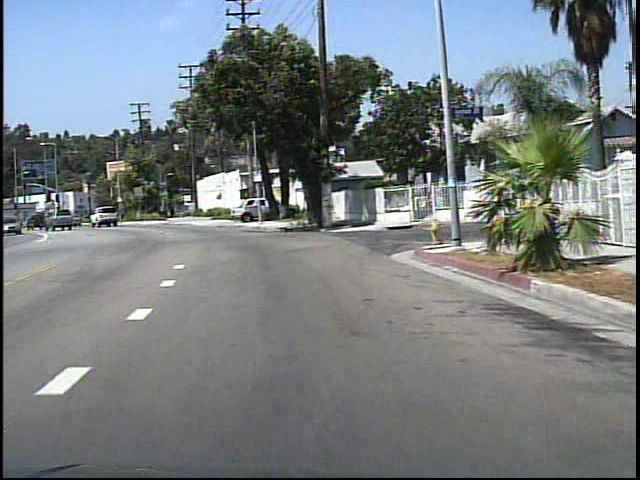car: (232, 197, 299, 221), (89, 204, 123, 229), (47, 206, 73, 233), (2, 215, 25, 237)
